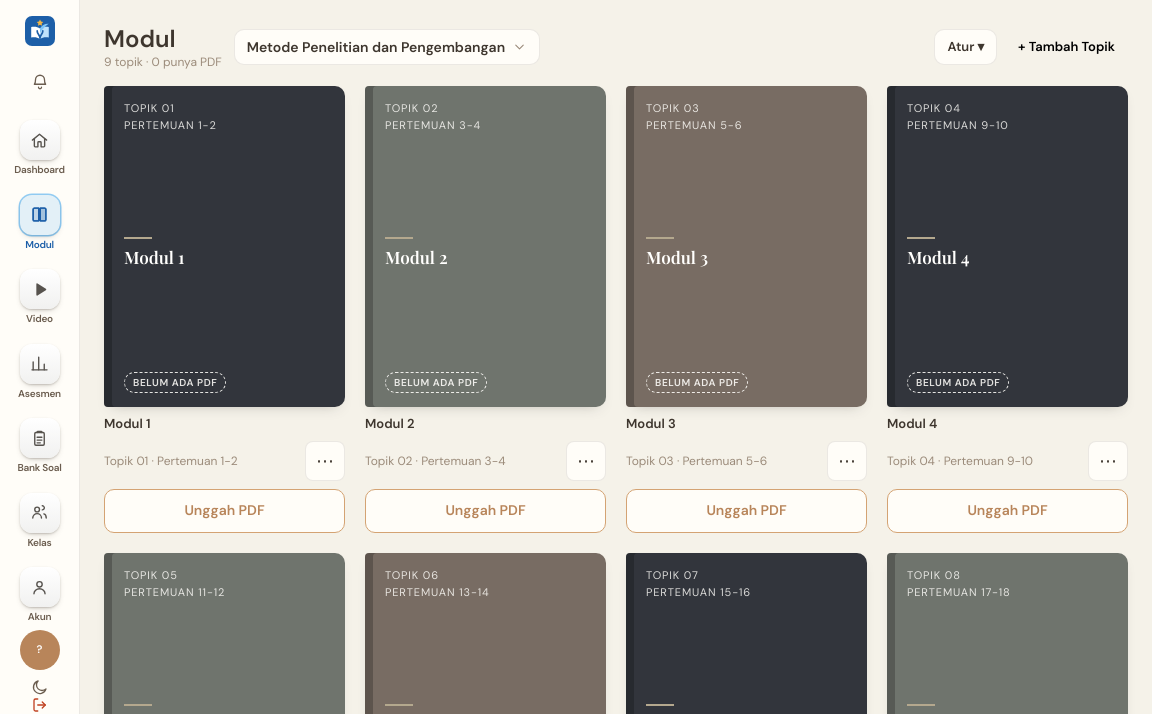
Test: ModulList › clicking Hapus on a row opens a delete confirmation modal
This screenshot has width=1152, height=714.
Click the button named "Aksi lain untuk Modul 1": (325, 461) [305,441,345,481]
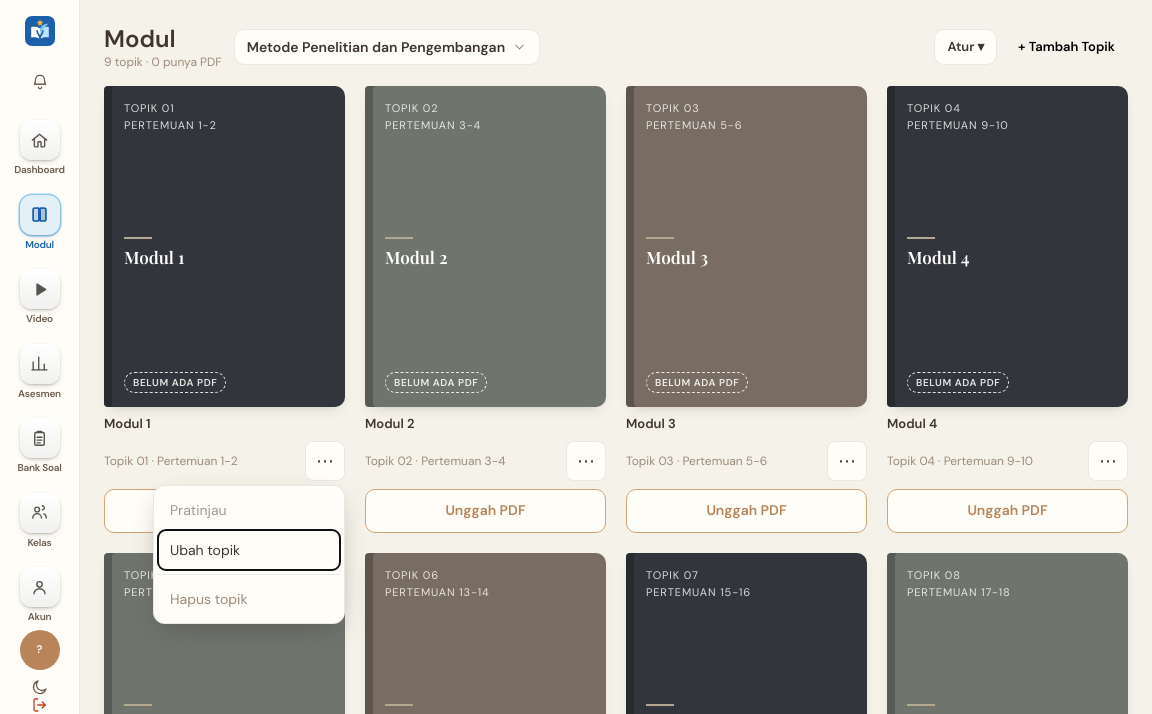
Click the menu item "Hapus topik": (249, 599) [158,579,340,619]
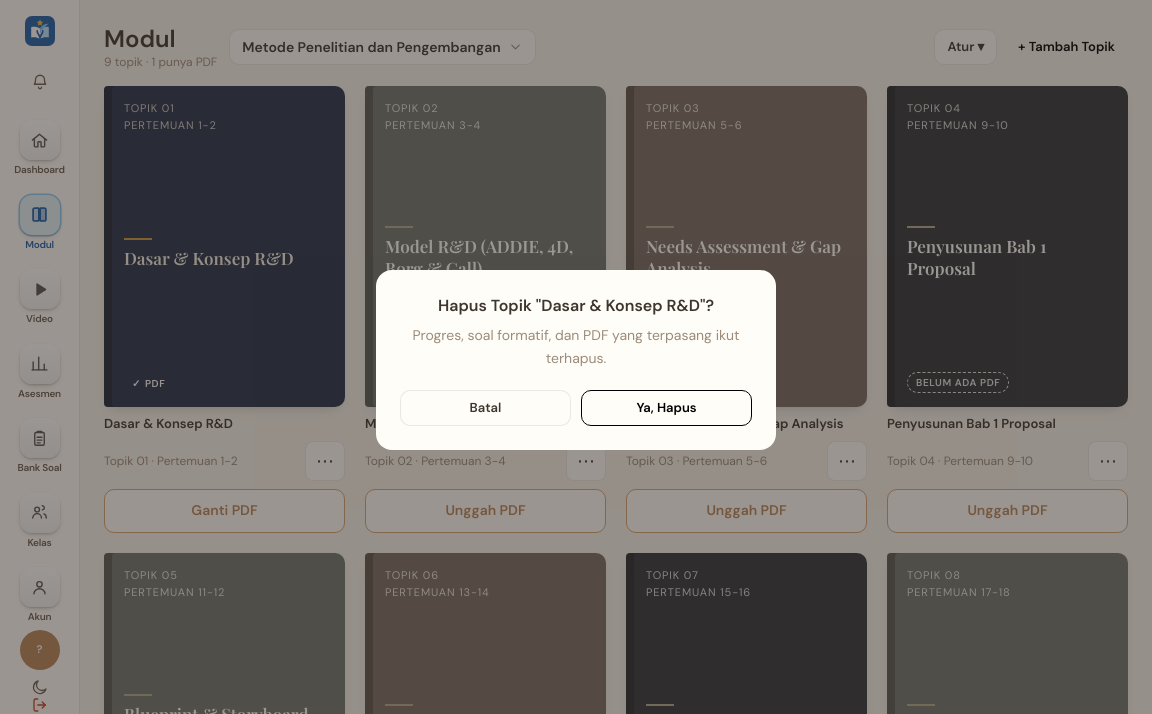
Check: the heading "Hapus Topik \"Dasar & Konsep R&D\"?" is shown, box [438,295,714,316]
Check: the text "ikut terhapus" is shown, box [412,326,740,367]
Check: the button "Ya, Hapus" is shown, box [581,390,752,426]
